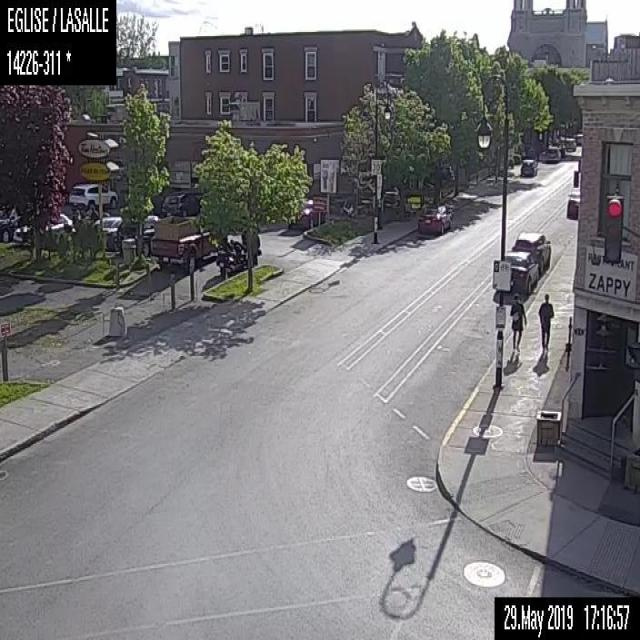pedestrian: (509, 293, 527, 352), (537, 292, 554, 352)
vehicle: (153, 213, 216, 273), (12, 211, 74, 248), (512, 230, 552, 275), (116, 216, 160, 256), (504, 250, 539, 294), (69, 181, 117, 211), (217, 236, 247, 275), (90, 215, 123, 250), (288, 200, 326, 229), (0, 202, 25, 242), (416, 207, 451, 234), (162, 192, 199, 215), (565, 188, 578, 220), (519, 157, 536, 176), (545, 144, 560, 161), (565, 137, 575, 151)
